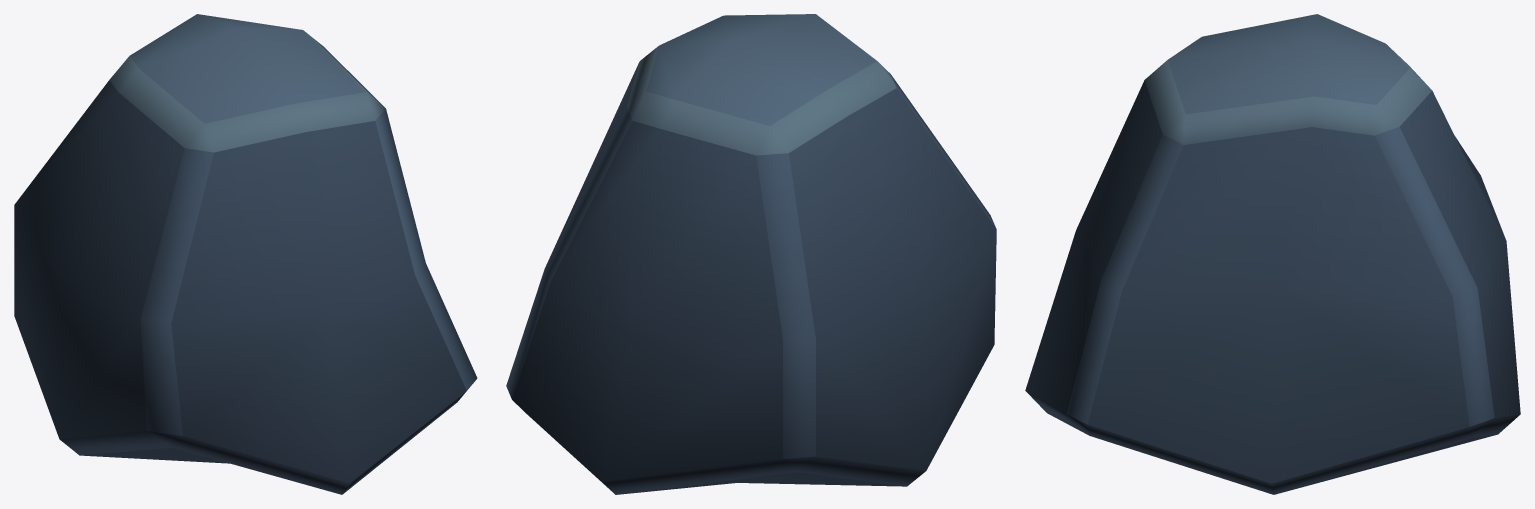
Rendered from rock.glb.
3 views of the same model, side by side, from view 1: azimuth 30°, elevation 25°; view 2: azimuth 150°, elevation 25°; view 3: azimuth 270°, elevation 25° (orthographic). The views are drawn at different scales.
Visible parts, largest first — view 1: rock_04; view 2: rock_04; view 3: rock_04.
Boxes of the visible parts, bbox=[...] form: rock_04: bbox=[14, 14, 477, 494]; rock_04: bbox=[506, 14, 996, 494]; rock_04: bbox=[1025, 14, 1520, 494].
Size of the model in its own units: 0.8262 by 1.07 by 1.07.
1 material, 1 textured.
